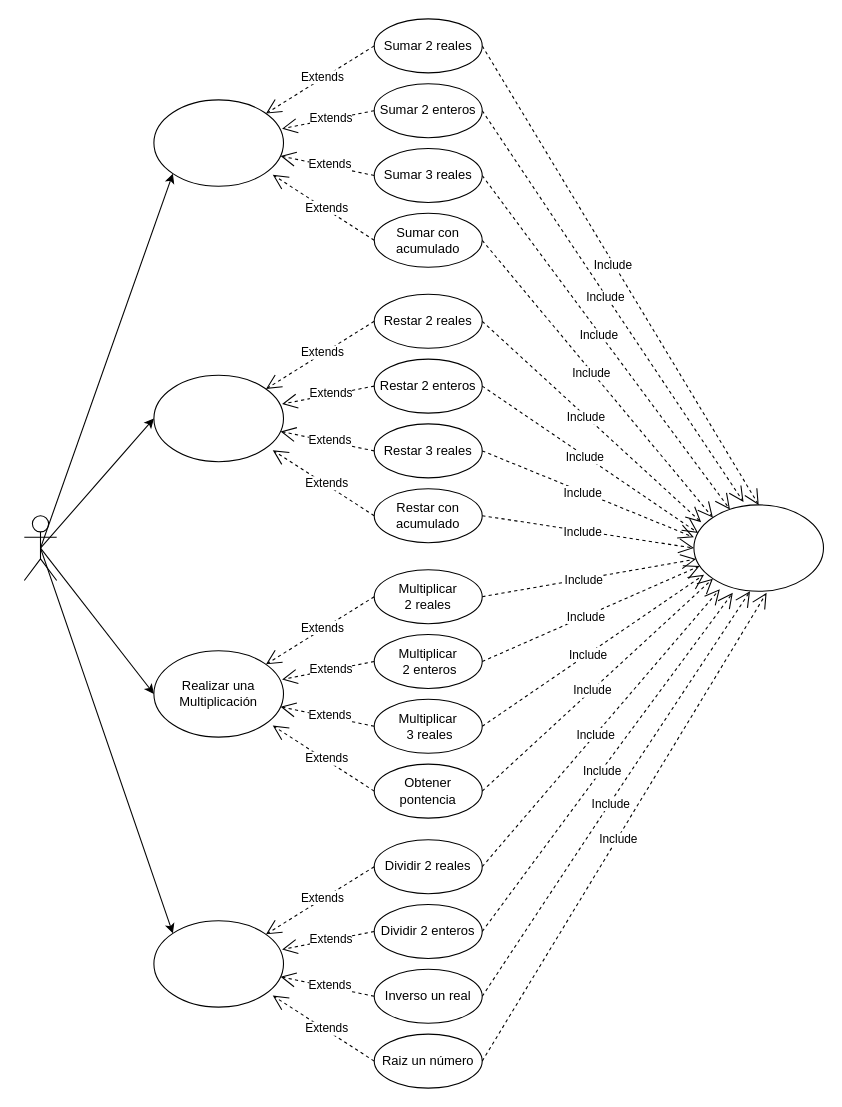
This 842x1107 diagram has some shape labels left out. Here are the shapes that lost their labels. From the top down, the centre of each, then its label:
the point at 218,142: Realizar una Suma
the point at 218,418: Realizar una Resta
the point at 40,547: Usuario
the point at 758,547: Obtener resultado
the point at 218,963: Realizar una División
